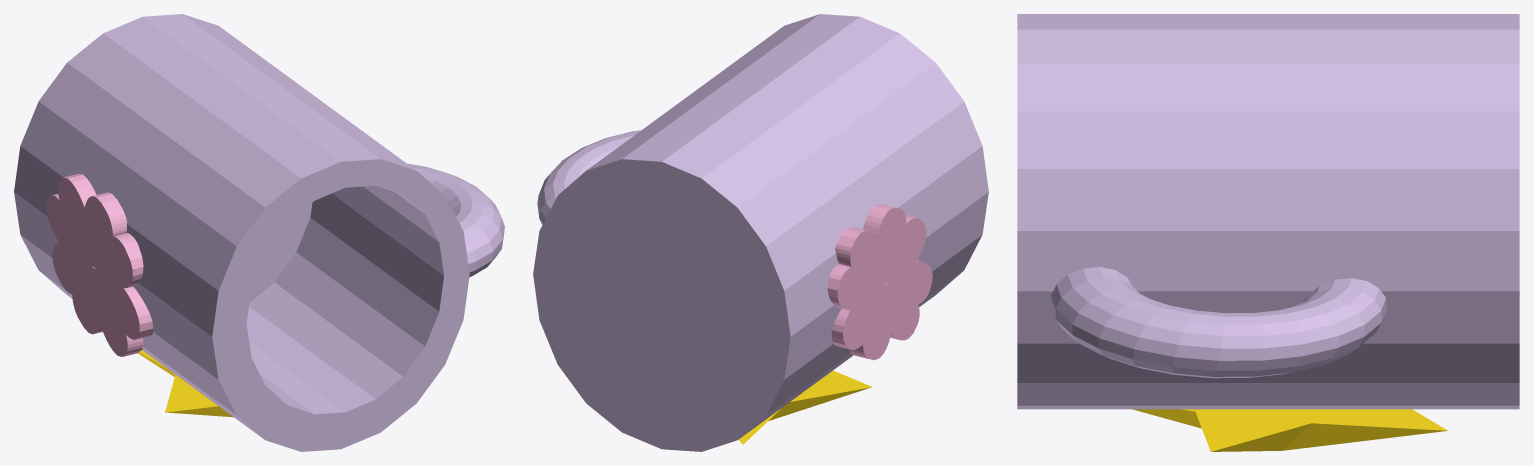
Rendered from tinker.obj.
The picture shows the model from 3 angles, left to right: view 1: azimuth 30°, elevation 25°; view 2: azimuth 150°, elevation 25°; view 3: azimuth 270°, elevation 25°; orthographic projection. The views are drawn at different scales.
Parts seen in each view (by area): view 1: group_0_13877221, group_0_15708628, group_0_16768282; view 2: group_0_13877221, group_0_15708628, group_0_16768282; view 3: group_0_13877221, group_0_16768282.
Part boxes in pixels (bbox=[...]): group_0_13877221: bbox=[14, 14, 504, 451]; group_0_15708628: bbox=[46, 173, 153, 356]; group_0_16768282: bbox=[138, 350, 233, 417]; group_0_13877221: bbox=[533, 14, 988, 451]; group_0_15708628: bbox=[827, 204, 932, 360]; group_0_16768282: bbox=[738, 370, 872, 444]; group_0_13877221: bbox=[1017, 14, 1519, 409]; group_0_16768282: bbox=[1132, 409, 1447, 451].
Bounding box in the file's own units: 42 × 37 × 40.
